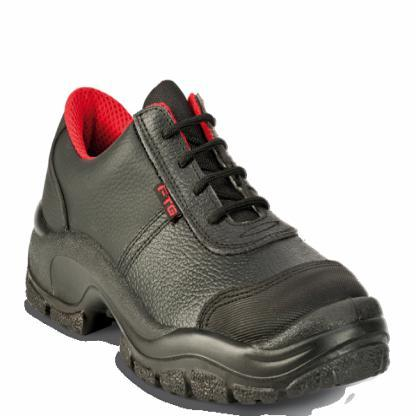bota: (23, 74, 392, 401)
